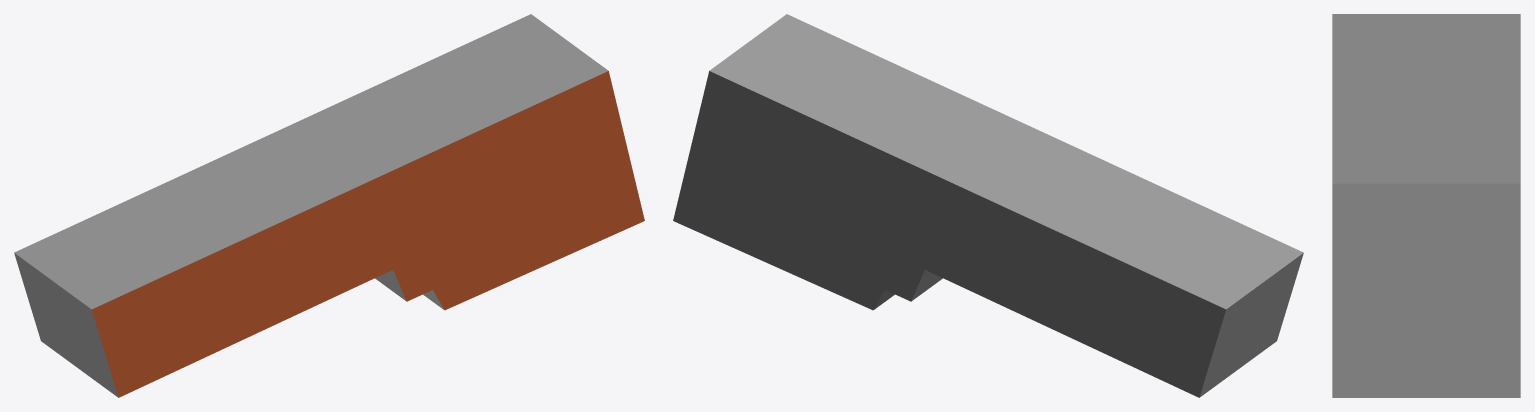
Rendered from construction_5577_assumed_A_Casa_h6m.obj.
3 views of the same model, side by side, from view 1: azimuth 30°, elevation 25°; view 2: azimuth 150°, elevation 25°; view 3: azimuth 270°, elevation 25° (orthographic). The views are drawn at different scales.
Parts seen in each view (by area): view 1: construction_5577_assumed_A_Casa; view 2: construction_5577_assumed_A_Casa; view 3: construction_5577_assumed_A_Casa.
Boxes of the visible parts, <box> form: construction_5577_assumed_A_Casa: <box>14,14,644,397</box>; construction_5577_assumed_A_Casa: <box>673,14,1303,397</box>; construction_5577_assumed_A_Casa: <box>1332,14,1520,397</box>.
Bounding box in the file's own units: 24.67 × 8.84 × 6.
